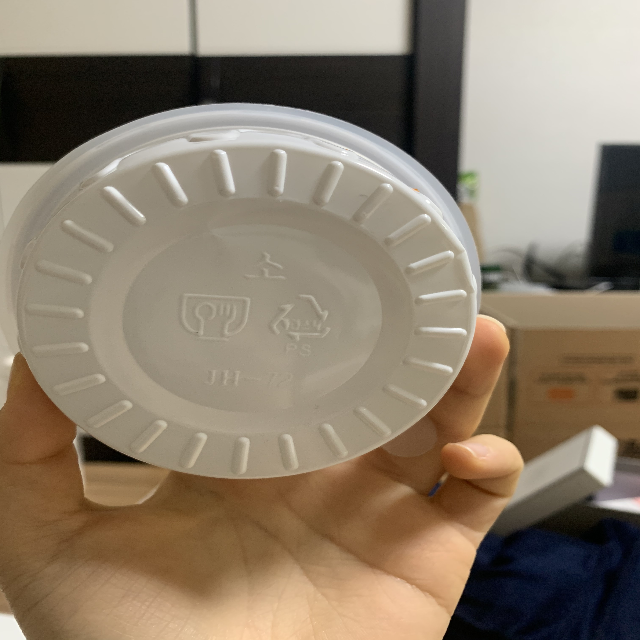ps: (269, 288, 332, 361)
